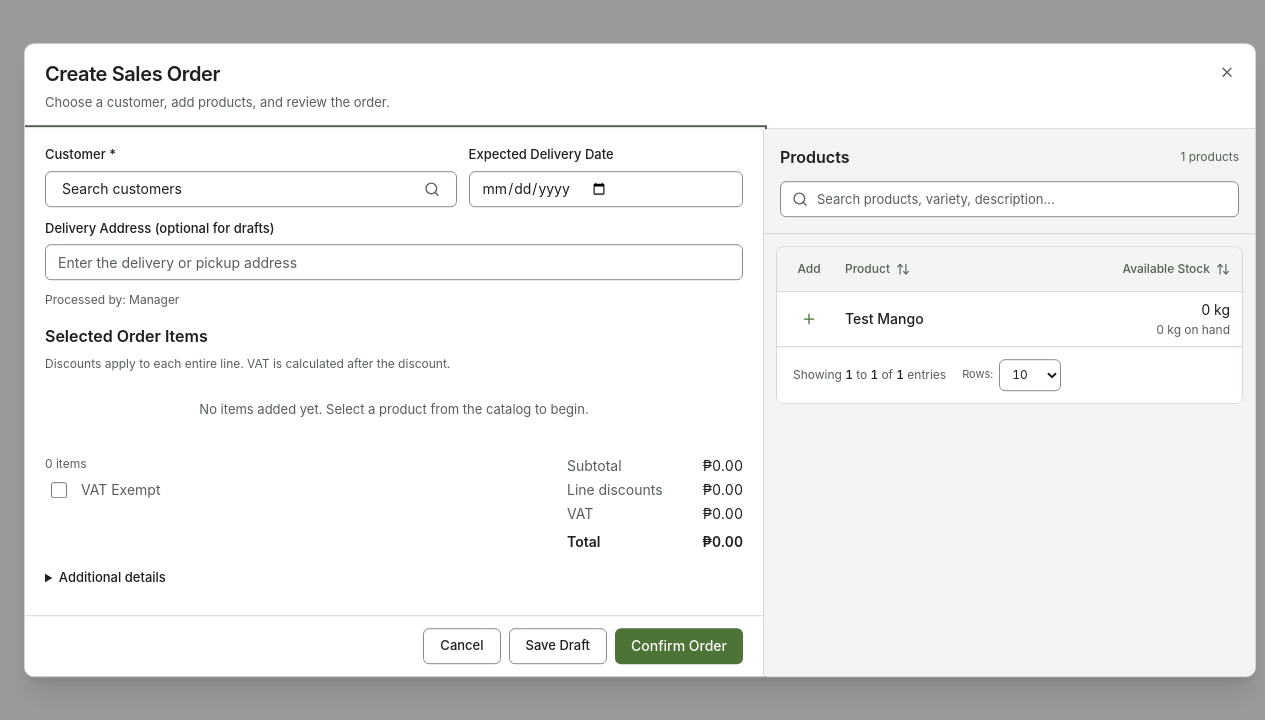
Scenario: sales line discount editor › shows authoritative saved line and overall totals while a confirmation failure remains recoverable
Click the button with aria-label "Search and choose a customer" at (122, 188), box [45,171,457,207]
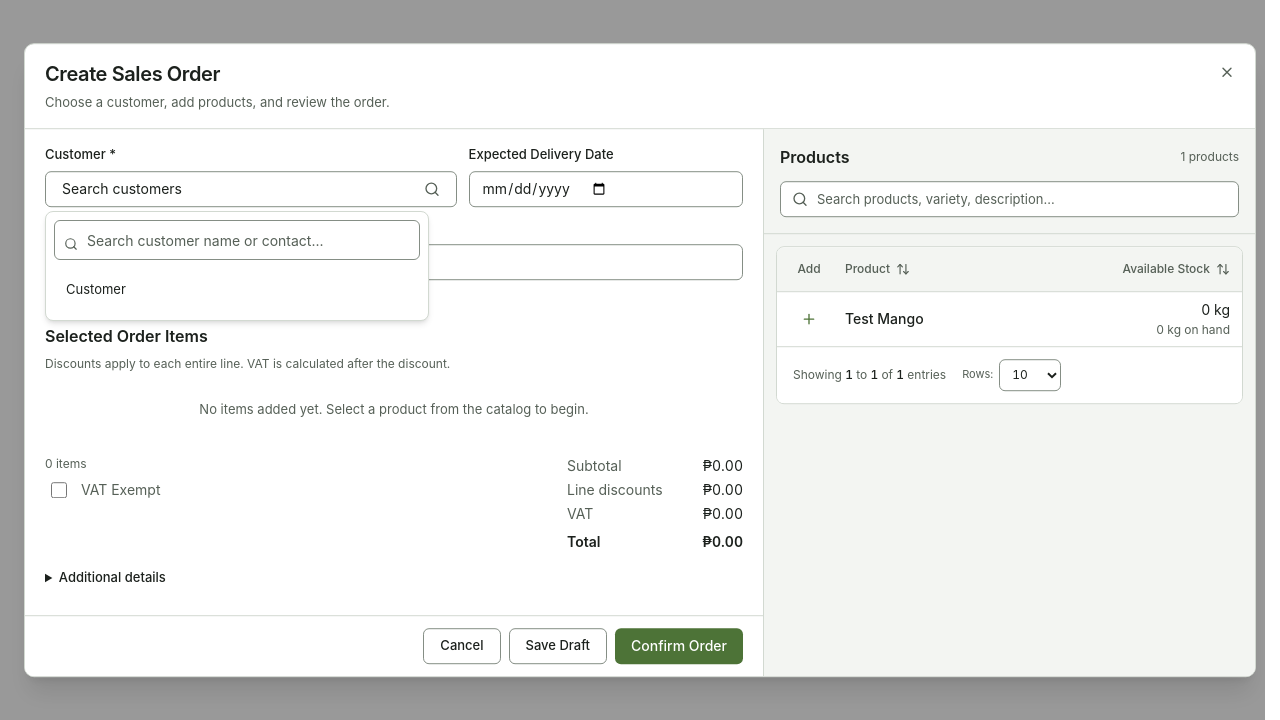
Click the menu item "Customer" at (96, 289), box [66,281,126,297]
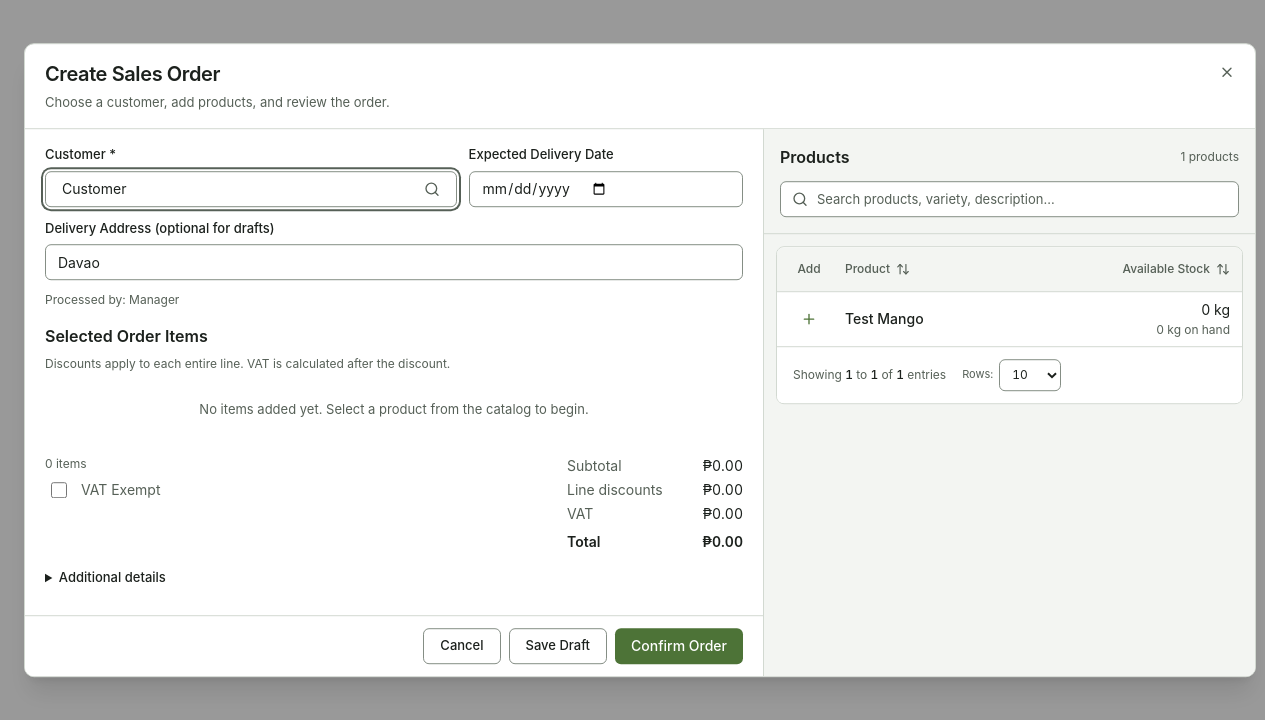
Click the button named "Add Test Mango" at (809, 319), box [791,301,827,337]
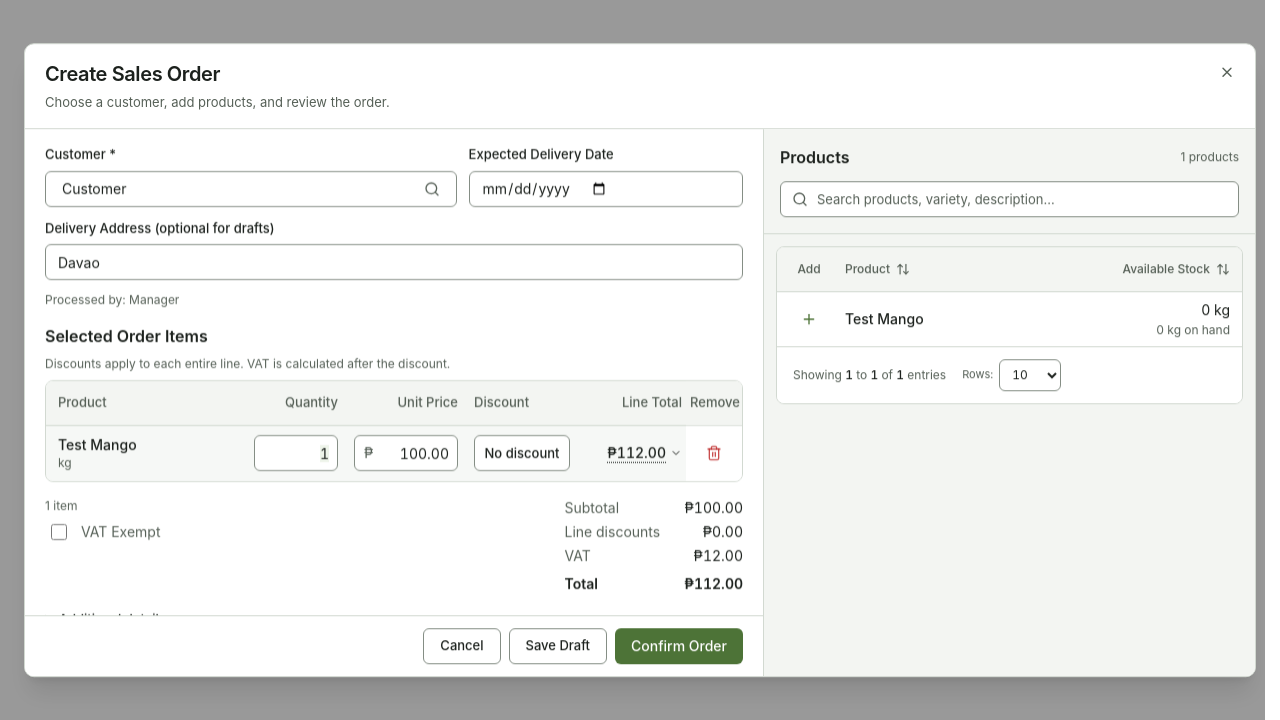
Click the button "Confirm Order" at (679, 646), box [615,628,743,664]
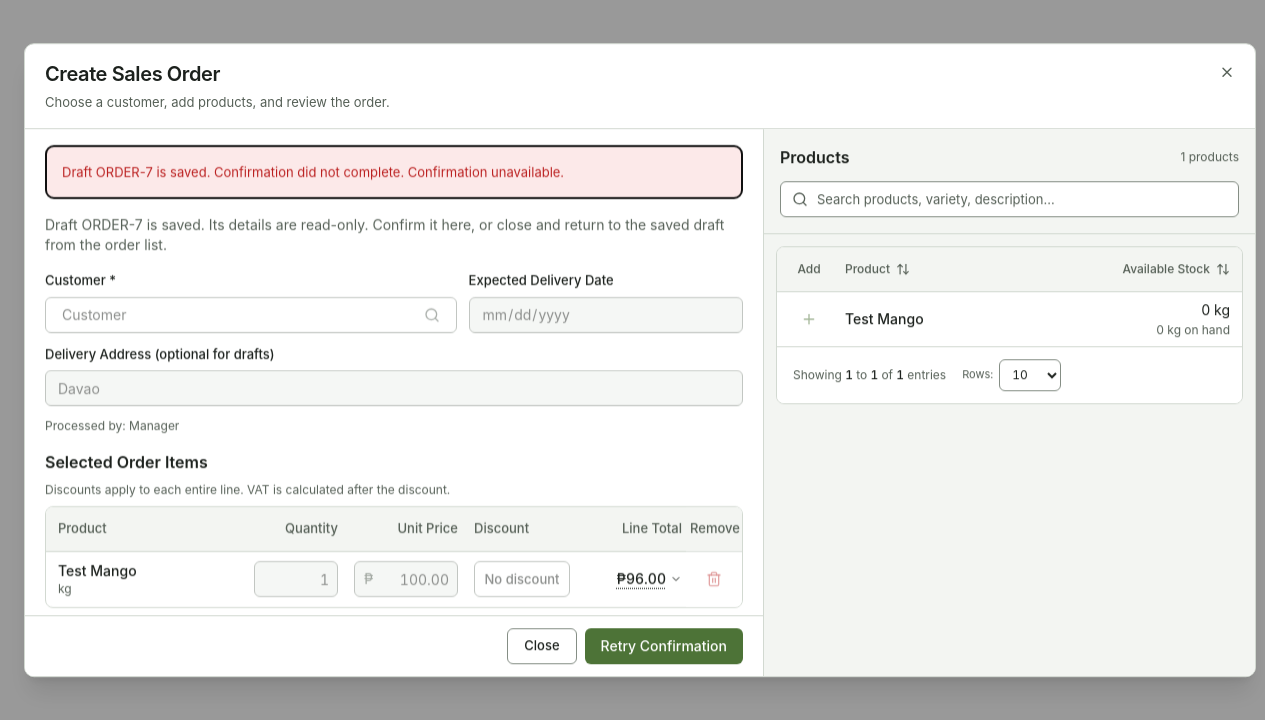
Result: the text "₱96.00" is shown 2 times
Result: the text "Confirmation did not complete" is shown at [62,164,564,180]
